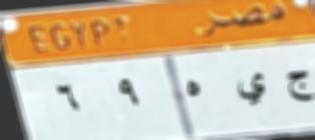6: (53, 83, 83, 116)
9: (114, 77, 140, 111)
haa: (181, 77, 204, 101)
jeem: (283, 66, 315, 109)
yaa: (234, 70, 268, 110)
